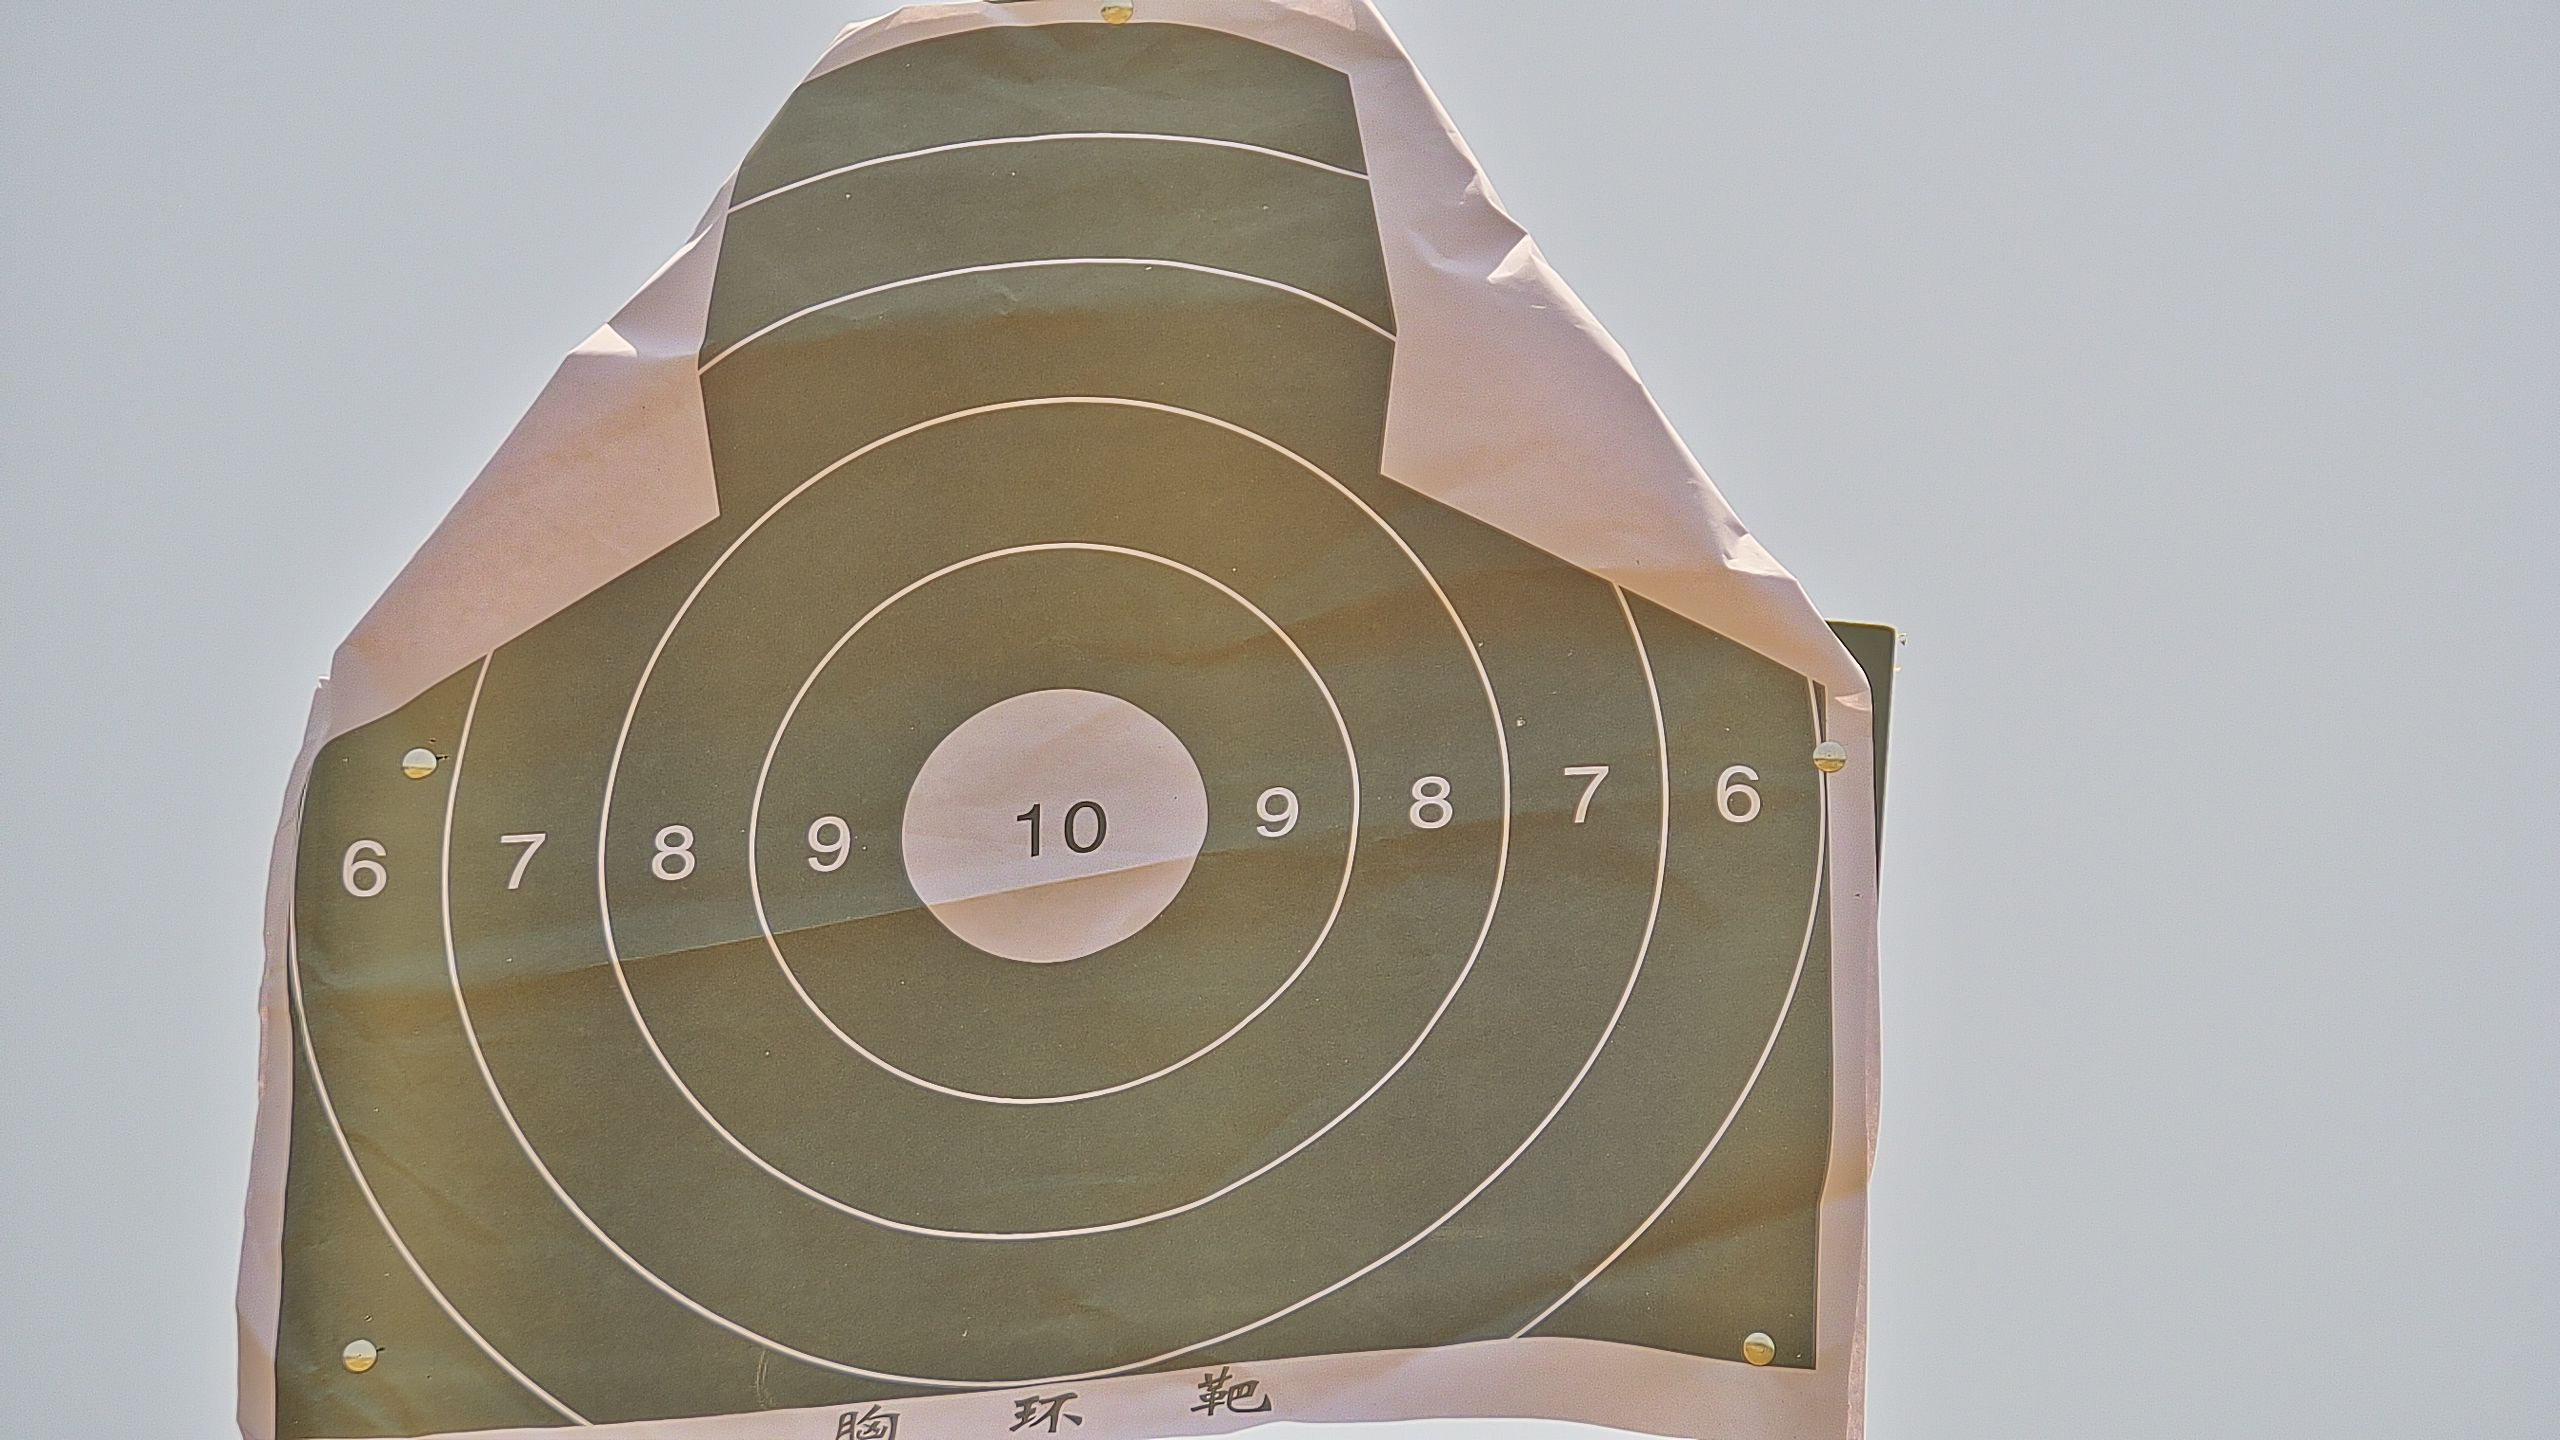kernel: (1044, 828, 1053, 832)
target: (264, 18, 1832, 1440)
ten: (898, 686, 1210, 969)
